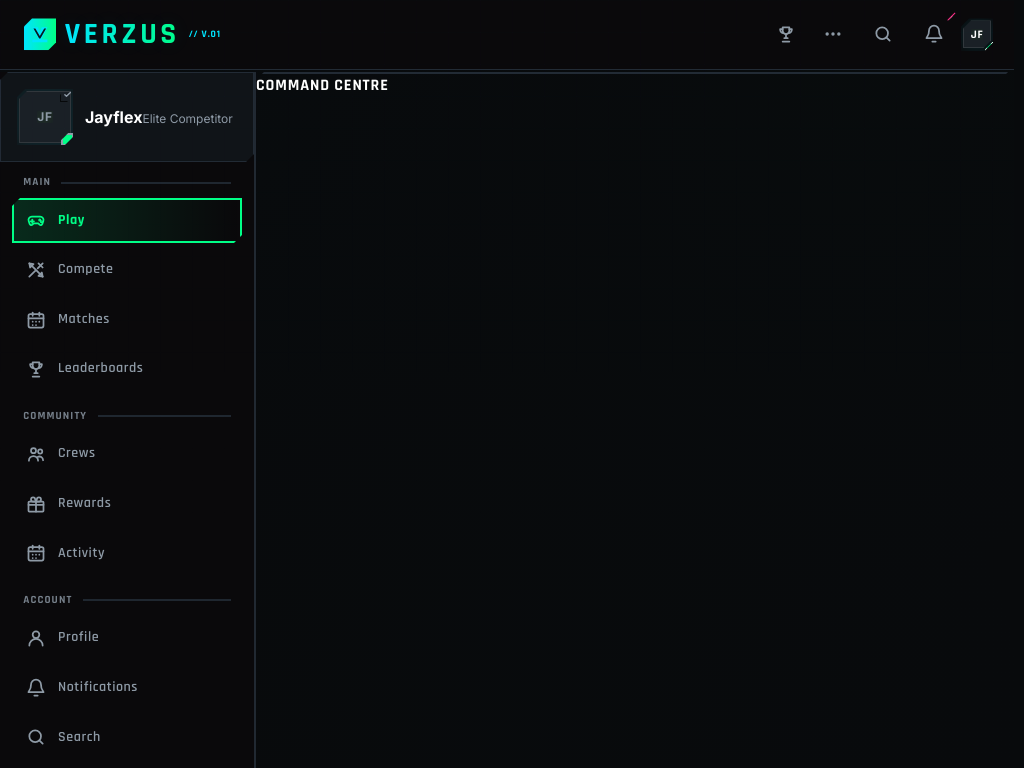
Test case: AppShell › opens the notification drawer with supplied content
The image size is (1024, 768).
Step 1. Click the button named "Open notifications" → (934, 34), box x1=910 y1=10 x2=958 y2=58
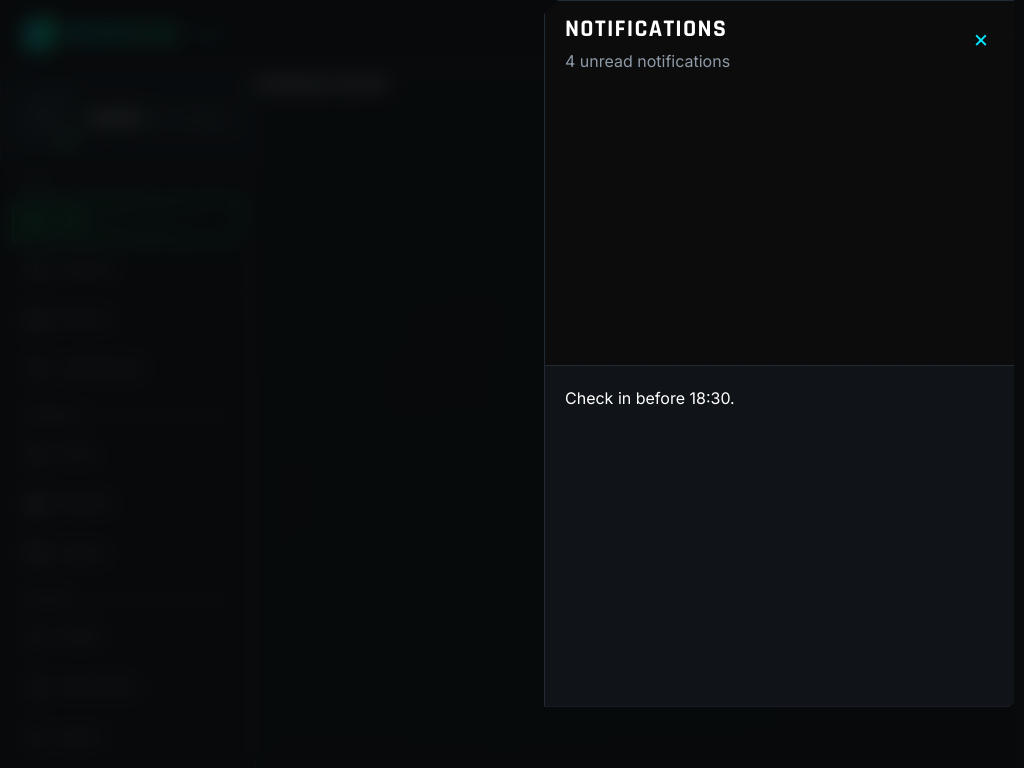
expect the dialog "Notifications" is shown: met, box x1=544 y1=0 x2=1023 y2=706
expect the text "Check in before 18:30." is shown: met, box x1=565 y1=388 x2=735 y2=408
